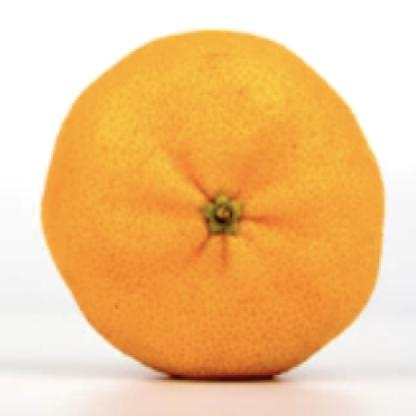fresh: (43, 31, 386, 382)
